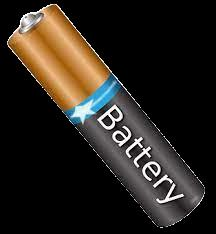Battery: (7, 4, 205, 230)
